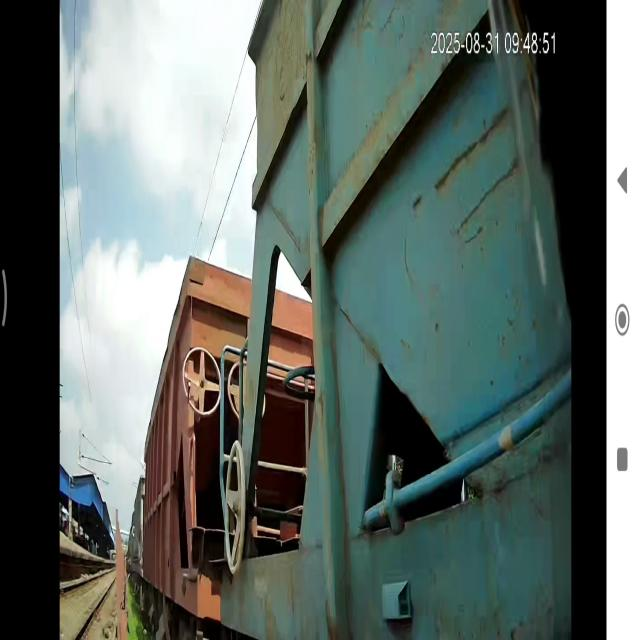joint: (173, 2, 326, 640)
